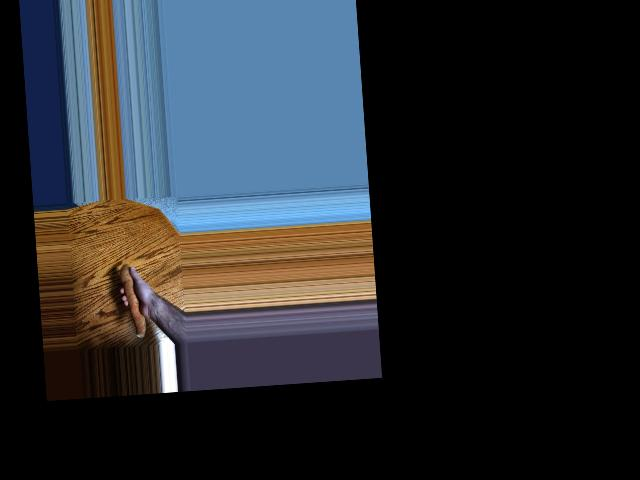sweet_potato: (118, 263, 149, 341)
